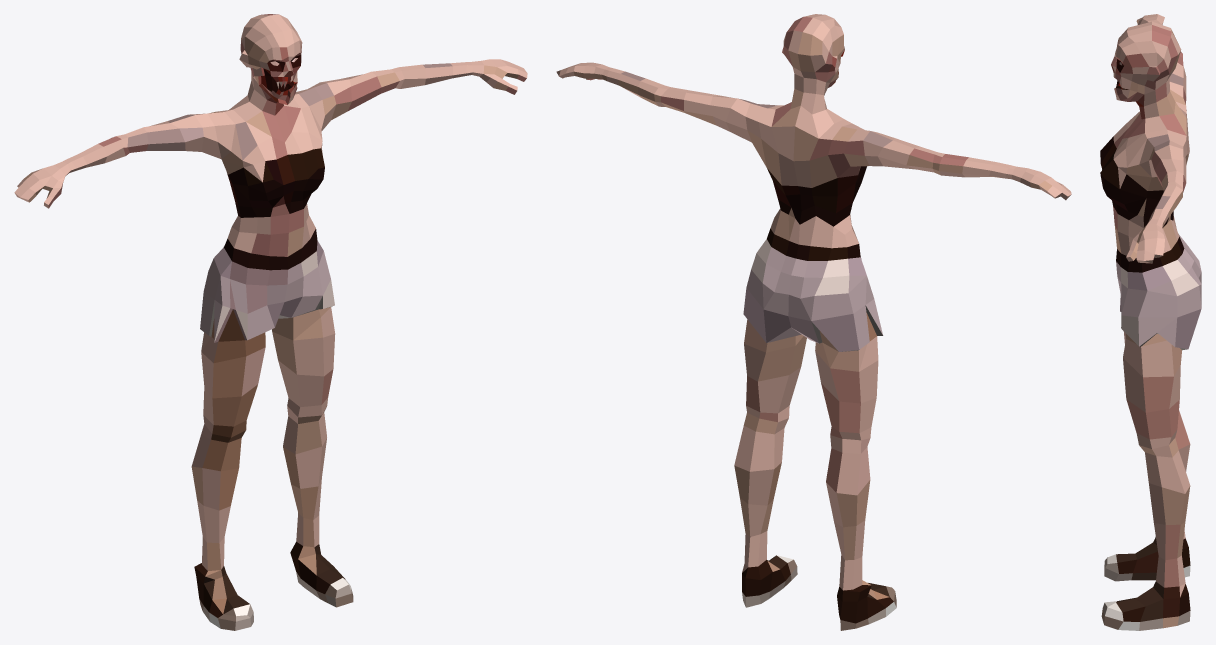
File: ZombieZ.fbx
3 renders of one model, left to right at view 1: azimuth 30°, elevation 25°; view 2: azimuth 150°, elevation 25°; view 3: azimuth 270°, elevation 25°, orthographic. The views are drawn at different scales.
Parts seen in each view (by area): view 1: lpFemale_zombie_B; view 2: lpFemale_zombie_B; view 3: lpFemale_zombie_B.
Boxes of the visible parts, <box> form: lpFemale_zombie_B: <box>14,14,527,630</box>; lpFemale_zombie_B: <box>556,14,1071,630</box>; lpFemale_zombie_B: <box>1100,14,1201,630</box>.
Size of the model in its own units: 153 by 168 by 26.91.
